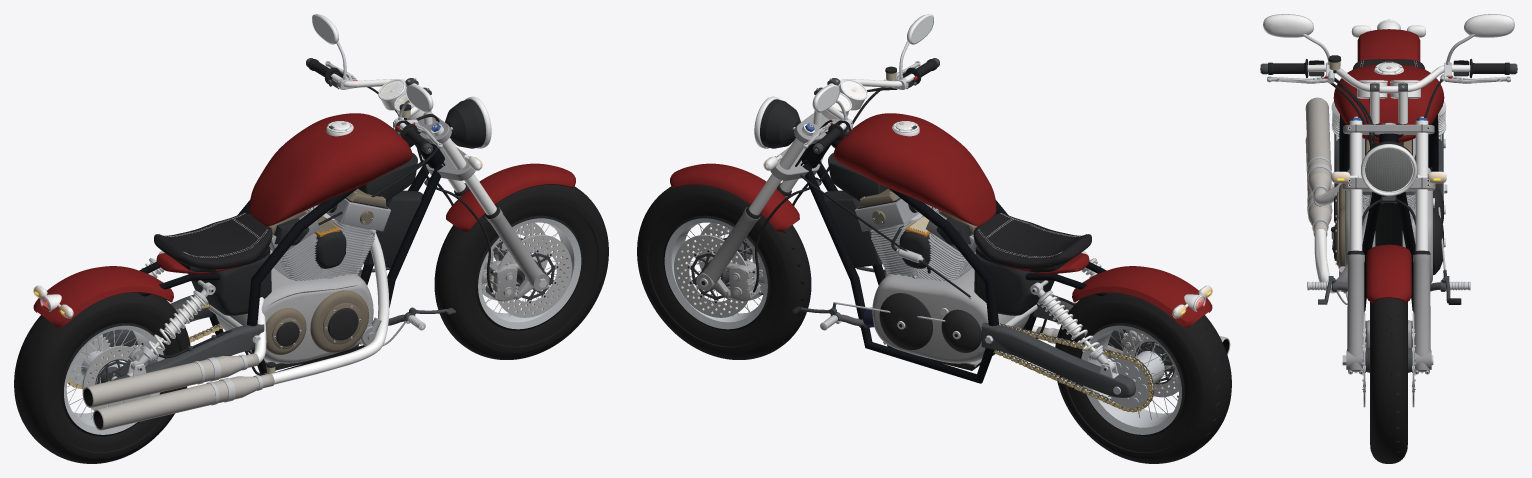
The model's file is lodestar_cruiser.glb.
The picture shows the model from 3 angles, left to right: view 1: azimuth 30°, elevation 25°; view 2: azimuth 150°, elevation 25°; view 3: azimuth 270°, elevation 25°; orthographic projection. The views are drawn at different scales.
Visible parts, largest first — view 1: lodestar_cruiser; view 2: lodestar_cruiser; view 3: lodestar_cruiser.
Part boxes in pixels (x1=…): lodestar_cruiser: x1=14, y1=14, x2=608, y2=463; lodestar_cruiser: x1=637, y1=14, x2=1231, y2=463; lodestar_cruiser: x1=1260, y1=14, x2=1517, y2=463.
Size of the model in its own units: 2.3 by 1.27 by 0.8198.
